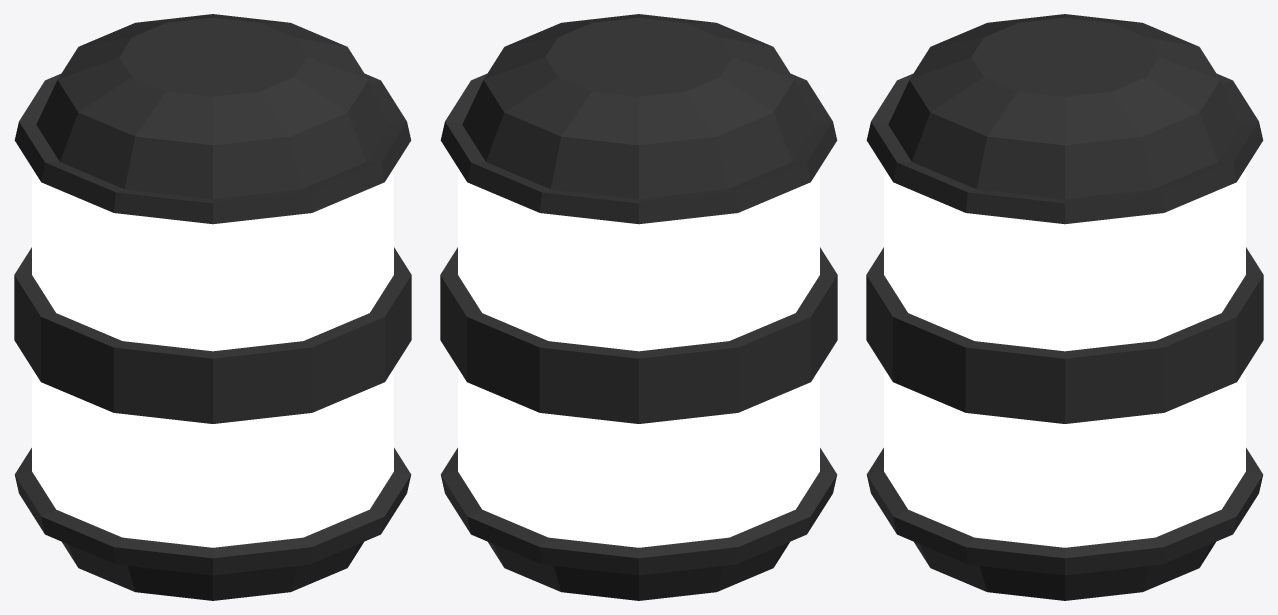
Rendered from PowerCell.fbx.
3 views of the same model, side by side, from view 1: azimuth 30°, elevation 25°; view 2: azimuth 150°, elevation 25°; view 3: azimuth 270°, elevation 25° (orthographic).
Parts seen in each view (by area): view 1: PowerCell; view 2: PowerCell; view 3: PowerCell.
Part boxes in pixels (left/top/right/bottom): PowerCell: left=14, top=14, right=411, bottom=600; PowerCell: left=440, top=14, right=837, bottom=600; PowerCell: left=866, top=14, right=1263, bottom=600.
Size of the model in its own units: 32.41 by 45.03 by 32.41.
